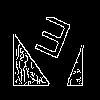E: (29, 13, 74, 69)
